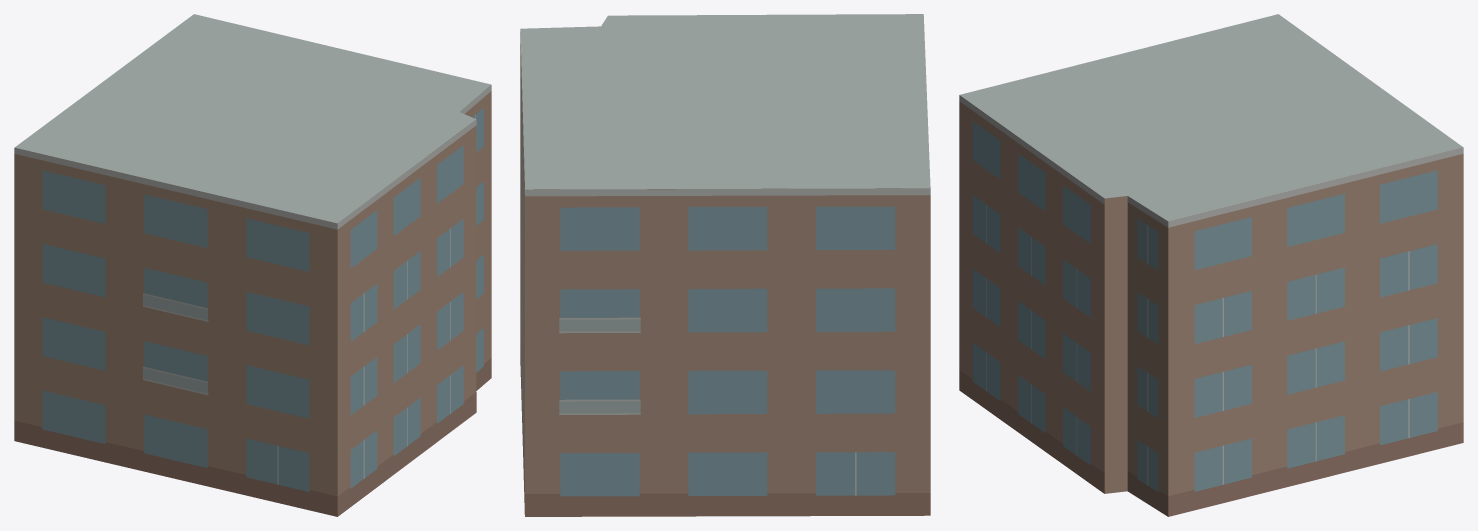
File: survey-upis-32946836.glb
3 views of the same model, side by side, from view 1: azimuth 30°, elevation 25°; view 2: azimuth 150°, elevation 25°; view 3: azimuth 270°, elevation 25° (orthographic). The views are drawn at different scales.
Parts seen in each view (by area): view 1: survey-upis-32946836.tmp; view 2: survey-upis-32946836.tmp; view 3: survey-upis-32946836.tmp.
Boxes of the visible parts, <box> form: survey-upis-32946836.tmp: <box>14,14,491,516</box>; survey-upis-32946836.tmp: <box>520,14,930,516</box>; survey-upis-32946836.tmp: <box>959,14,1463,516</box>.
Size of the model in its own units: 17.48 by 11.6 by 17.96.
